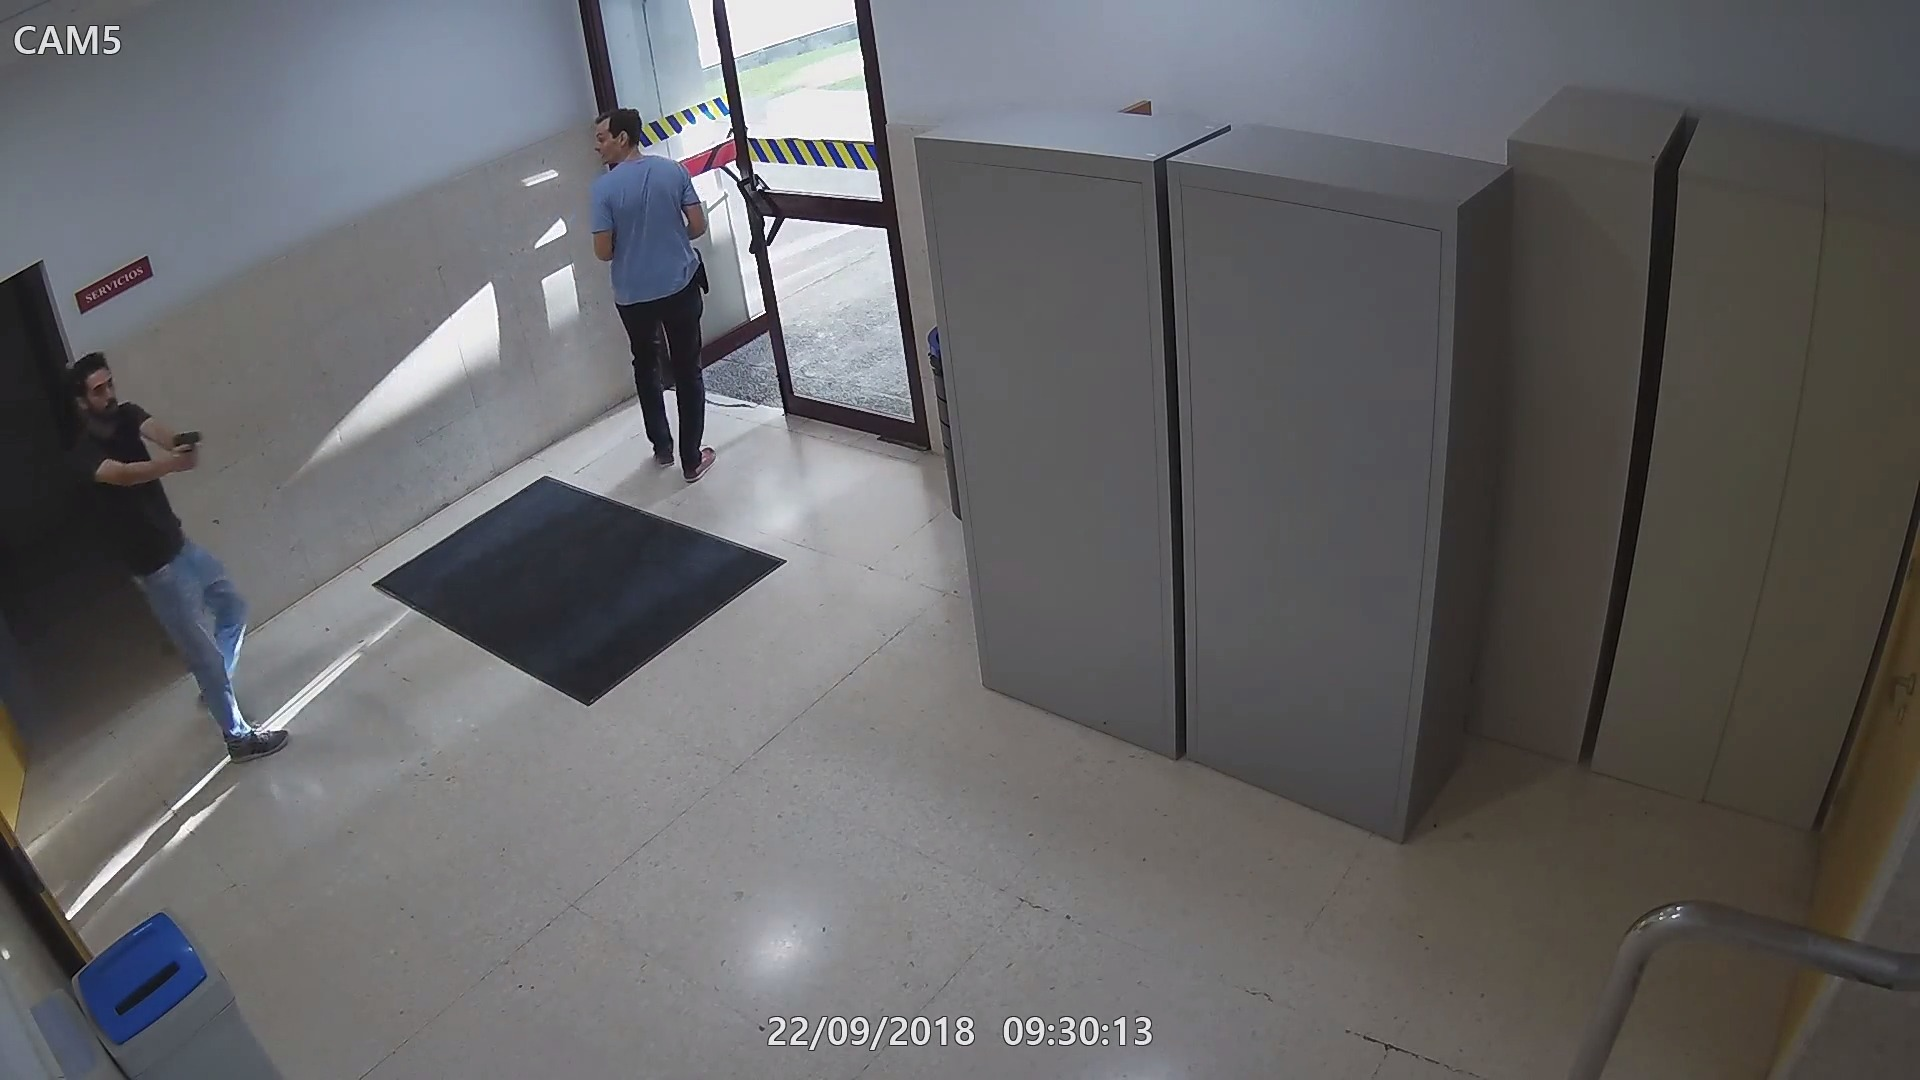Handgun: (167, 426, 208, 469)
